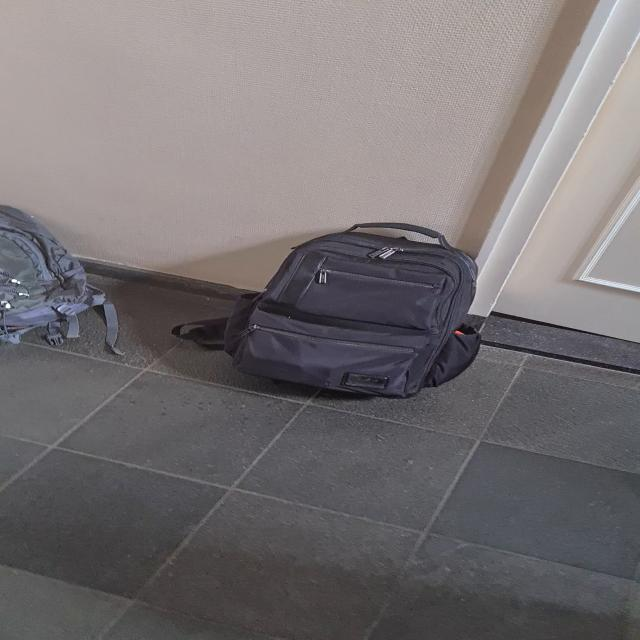backpack: (210, 220, 493, 403), (0, 201, 116, 345)
